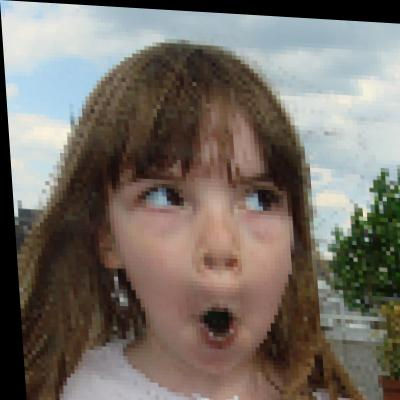surprise: (101, 87, 296, 367)
